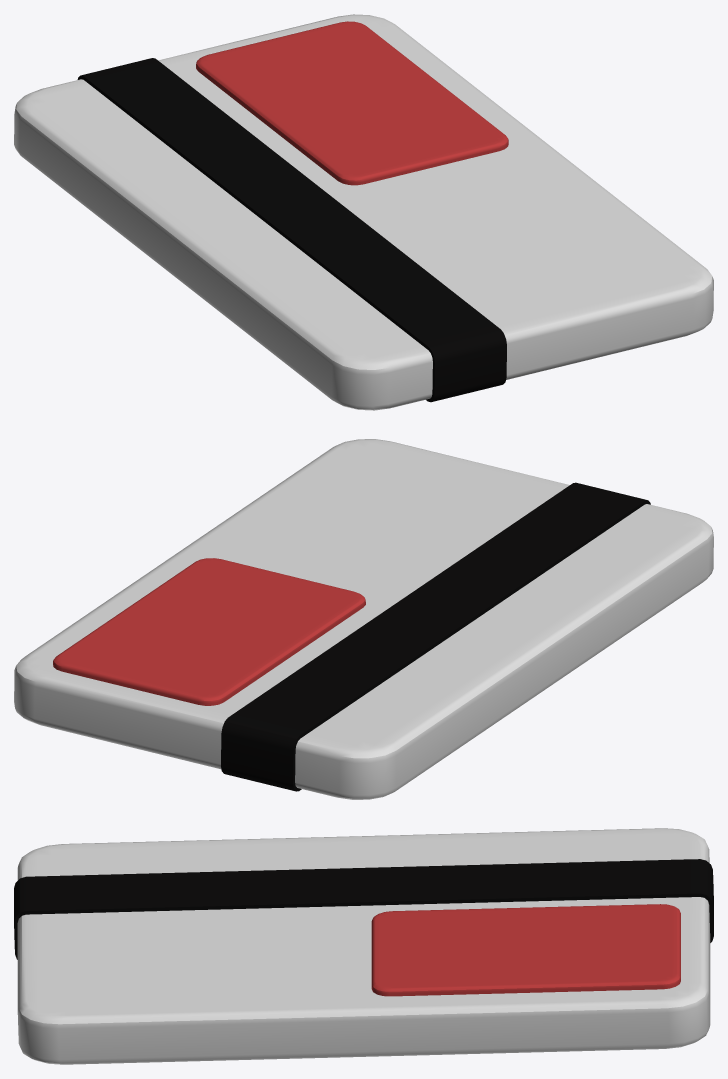
The model's file is TarjetaDeAccesoRojo.fbx.
3 views of the same model, one above another, from view 1: azimuth 30°, elevation 25°; view 2: azimuth 150°, elevation 25°; view 3: azimuth 270°, elevation 25° (orthographic). The views are drawn at different scales.
Visible parts, largest first — view 1: BaseTarjeta5, Identificador1; view 2: BaseTarjeta5, Identificador1; view 3: BaseTarjeta5, Identificador1.
Part boxes in pixels (left/top/right/bottom): BaseTarjeta5: left=14, top=14, right=713, bottom=410; Identificador1: left=196, top=21, right=508, bottom=185; BaseTarjeta5: left=14, top=439, right=713, bottom=799; Identificador1: left=53, top=558, right=365, bottom=705; BaseTarjeta5: left=14, top=828, right=713, bottom=1064; Identificador1: left=371, top=904, right=680, bottom=996.
Size of the model in its own units: 1.49 by 0.2855 by 2.46.
